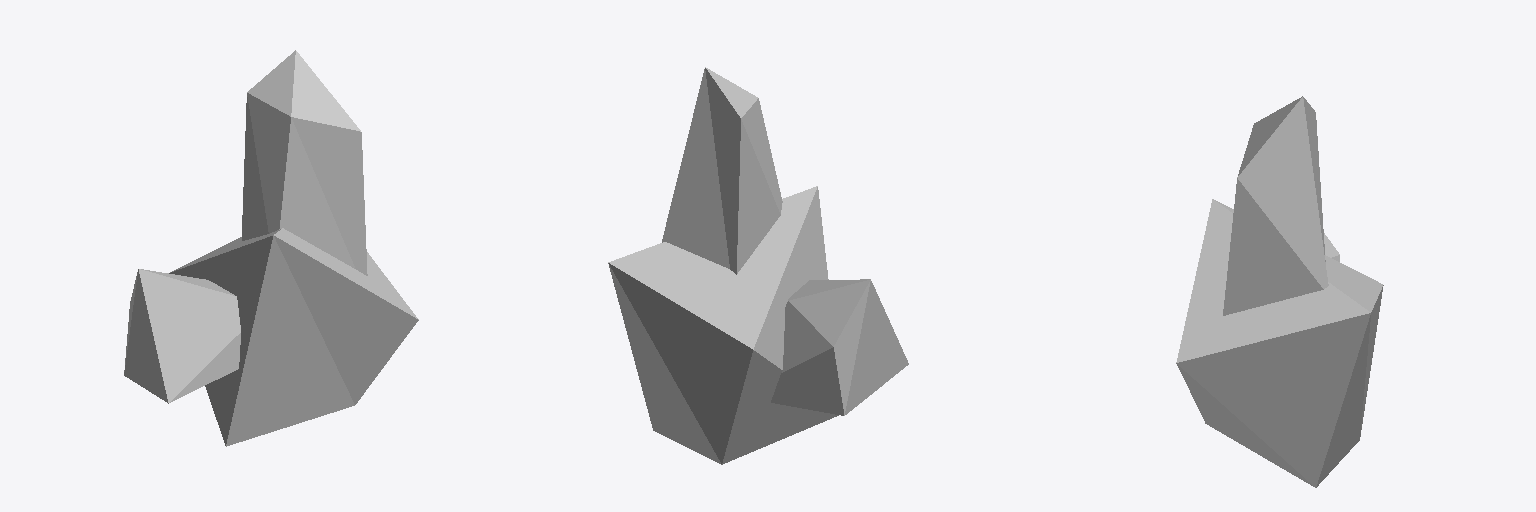
Rendered from something.obj.
3 views of the same model, side by side, from view 1: azimuth 30°, elevation 25°; view 2: azimuth 150°, elevation 25°; view 3: azimuth 270°, elevation 25° (orthographic).
Parts seen in each view (by area): view 1: Cube; view 2: Cube; view 3: Cube.
Part boxes in pixels (x1,y1,x2,y2): Cube: (124, 50, 418, 446); Cube: (608, 67, 908, 464); Cube: (1176, 96, 1383, 487).
Size of the model in its own units: 3.06 by 4.74 by 2.41.